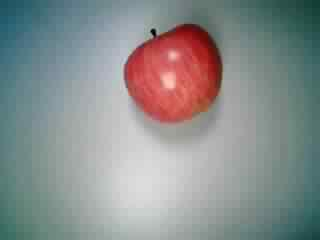apple: (118, 20, 225, 124)
